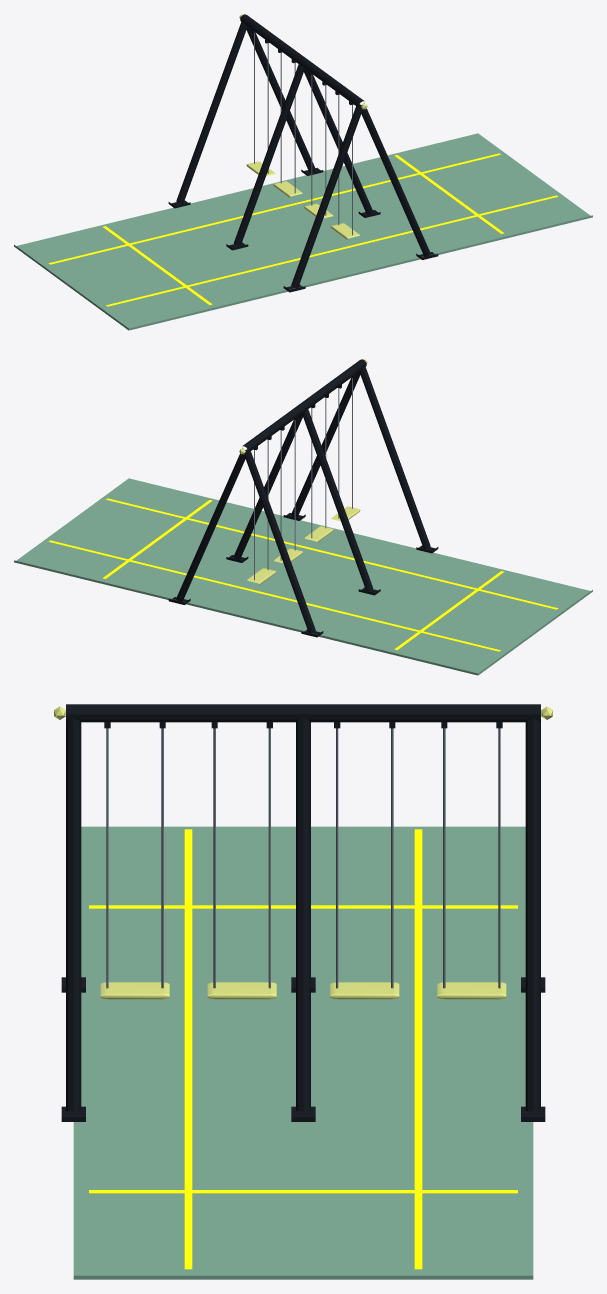
3 views of the same model, one above another, from view 1: azimuth 30°, elevation 25°; view 2: azimuth 150°, elevation 25°; view 3: azimuth 270°, elevation 25° (orthographic). The views are drawn at different scales.
Parts seen in each view (by area): view 1: Safety_Pad, Swing_Frame, Court_Line, Swing3_Chains, Swing2_Chains; view 2: Safety_Pad, Swing_Frame, Court_Line, Swing2_Chains, Swing3_Chains; view 3: Safety_Pad, Swing_Frame, Court_Line, Swing1_Chains, Swing2_Chains, Swing3_Chains, Swing4_Chains, Swing1_Seat, Swing4_Seat, Swing2_Seat, Swing3_Seat.
Boxes of the visible parts, x1,y1,x2,y2 form: Safety_Pad: (14, 133, 592, 330); Swing_Frame: (168, 14, 438, 292); Court_Line: (48, 153, 558, 306); Swing3_Chains: (311, 75, 326, 215); Swing2_Chains: (280, 52, 295, 193); Safety_Pad: (14, 478, 592, 675); Swing_Frame: (168, 359, 438, 637); Court_Line: (48, 498, 558, 651); Swing2_Chains: (280, 420, 295, 560); Swing3_Chains: (311, 397, 326, 538); Safety_Pad: (73, 826, 533, 1279); Swing_Frame: (61, 704, 545, 1121); Court_Line: (89, 829, 517, 1269); Swing1_Chains: (443, 728, 500, 988); Swing2_Chains: (336, 728, 393, 988); Swing3_Chains: (213, 728, 270, 988); Swing4_Chains: (106, 728, 163, 988); Swing1_Seat: (437, 982, 506, 999); Swing4_Seat: (100, 982, 169, 999); Swing2_Seat: (330, 982, 399, 999); Swing3_Seat: (207, 982, 276, 999).
Size of what is drawn, in the model's own units: 7 by 2.51 by 3.26.
5 materials, 2 textured.
